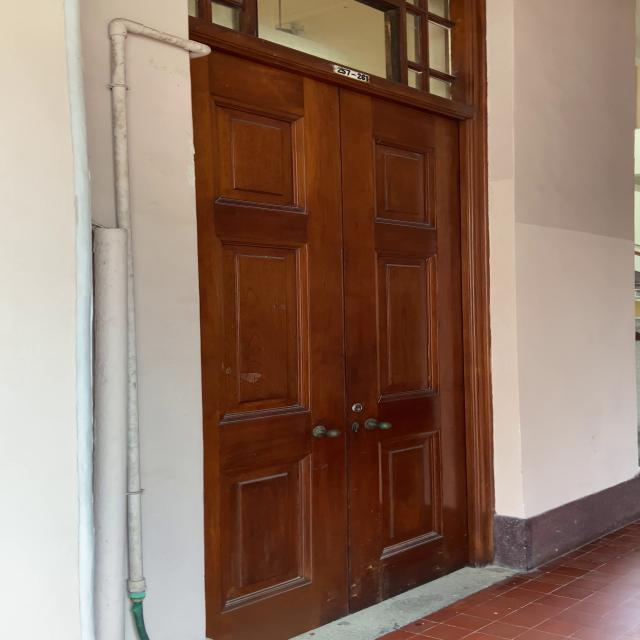room257: (323, 62, 375, 84)
room257door: (190, 16, 476, 640)
